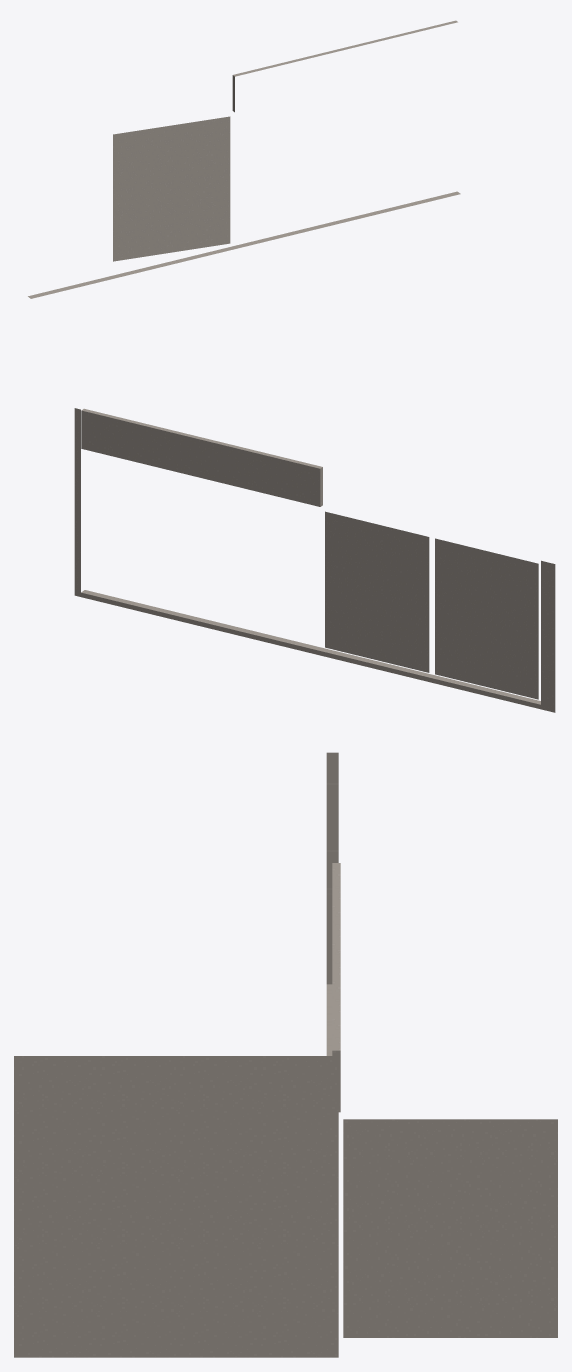
File: kd_stage_135d18_4_84.glb
3 renders of one model, top to bottom at view 1: azimuth 30°, elevation 25°; view 2: azimuth 150°, elevation 25°; view 3: azimuth 270°, elevation 25°, orthographic. The views are drawn at different scales.
Parts seen in each view (by area): view 1: kd_stage_135d18_4_84; view 2: kd_stage_135d18_4_84; view 3: kd_stage_135d18_4_84.
Part boxes in pixels (left/top/right/bottom): kd_stage_135d18_4_84: left=28, top=20, right=460, bottom=298; kd_stage_135d18_4_84: left=74, top=408, right=555, bottom=712; kd_stage_135d18_4_84: left=14, top=752, right=557, bottom=1357.
Size of the model in its own units: 2.2 by 0.82 by 1.34.
Materials: 1 (1 with a texture image).
